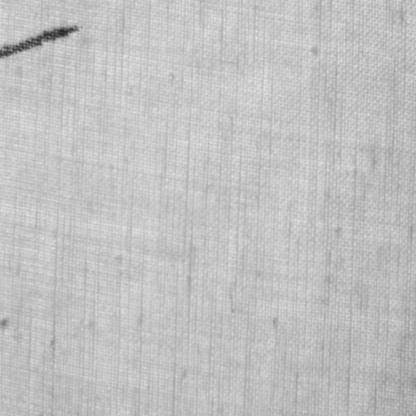oil spot: (0, 20, 81, 60)
